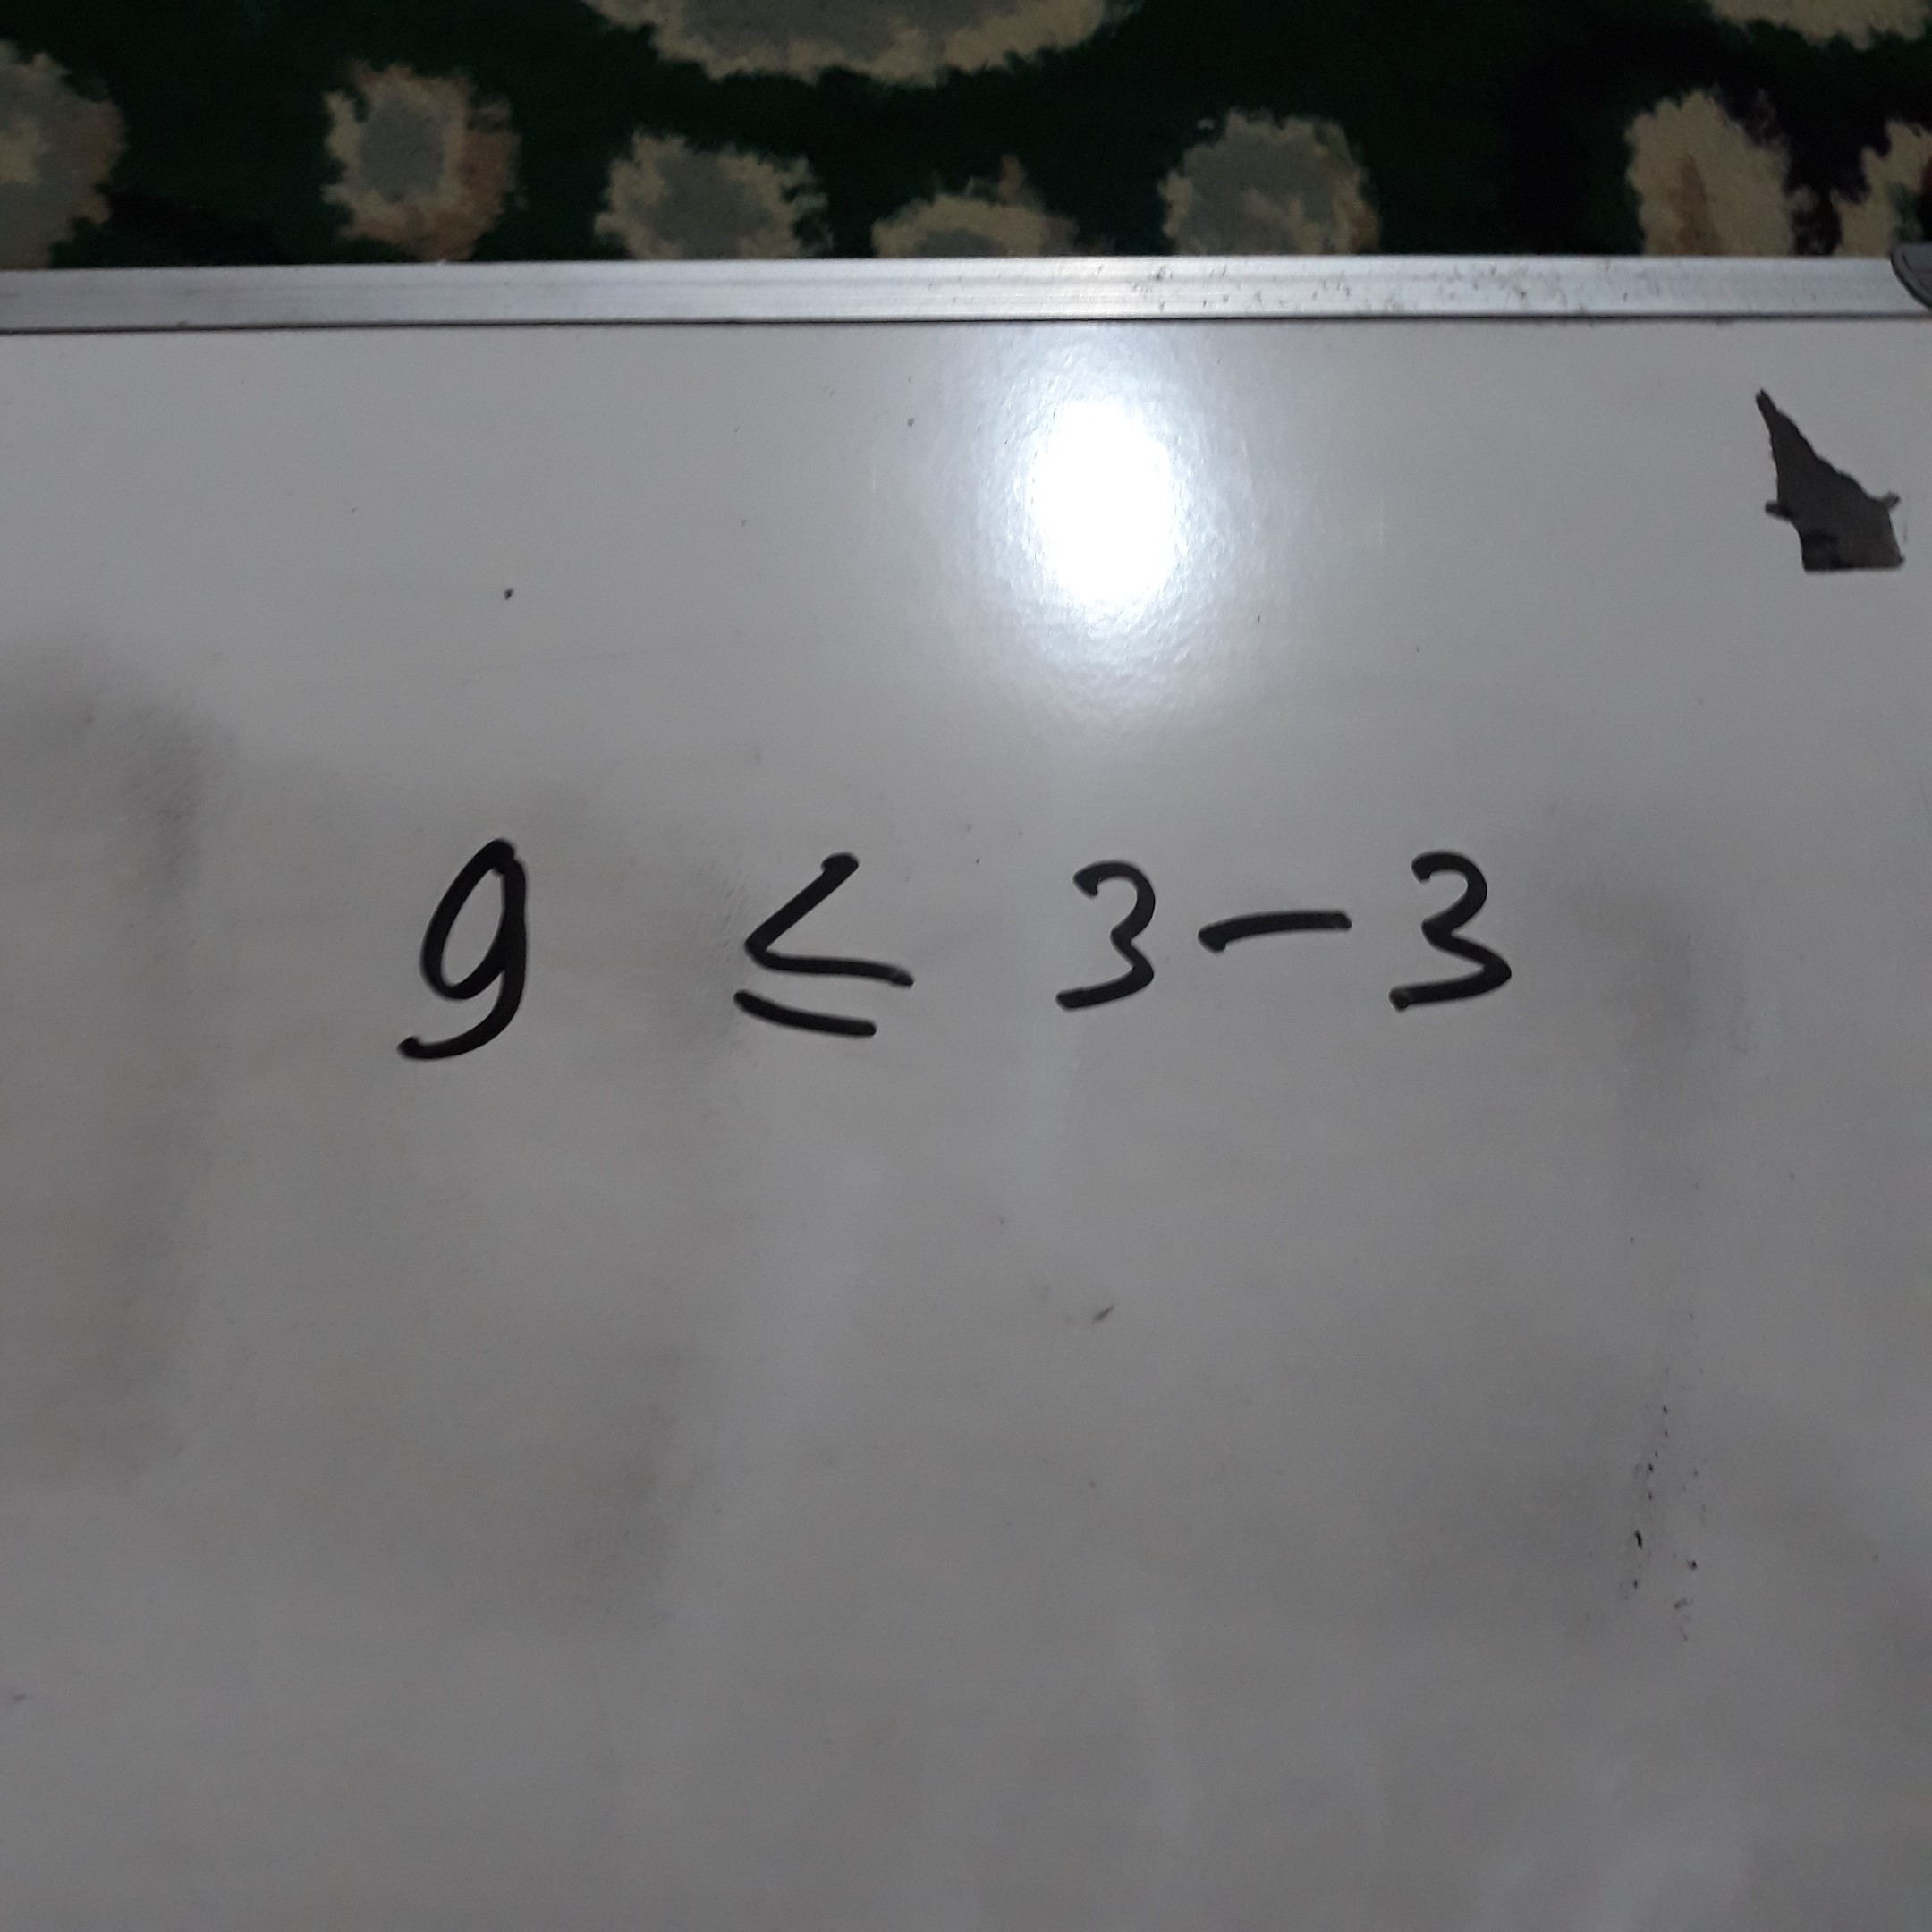lessthan-equal: (724, 818, 934, 1054)
min: (1195, 880, 1366, 970)
num3: (1378, 817, 1530, 1035), (1033, 837, 1176, 1031)
num9: (371, 823, 543, 1080)
